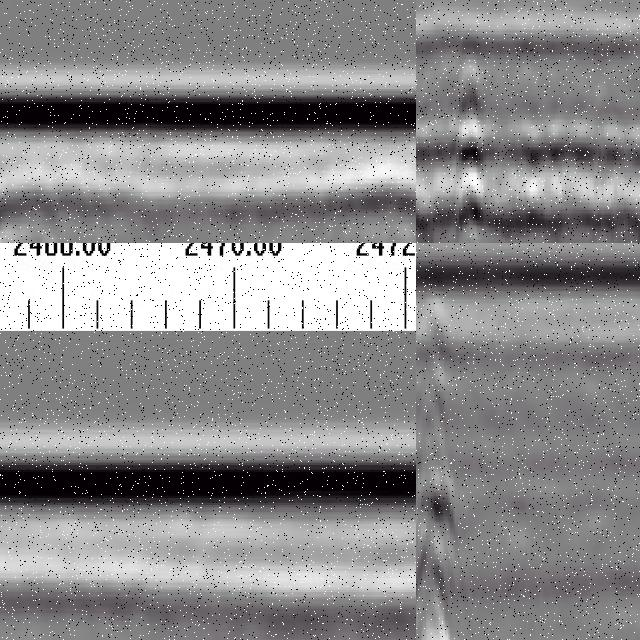crack: (417, 295, 459, 640), (455, 20, 484, 244)
loose: (1, 183, 103, 244)
